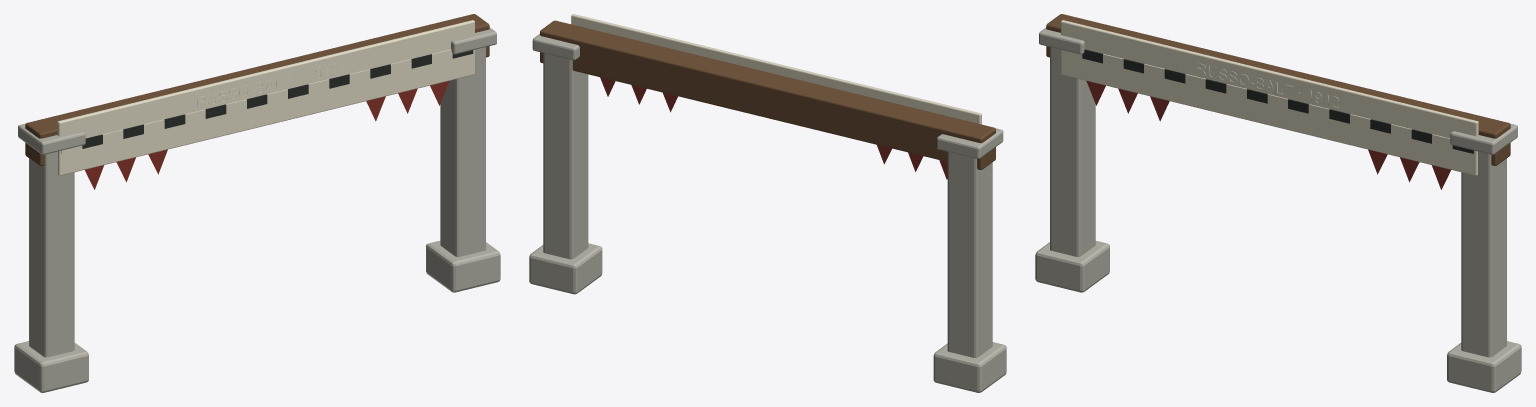
The model's file is Prop_Start_Arch_1912.fbx.
3 renders of one model, left to right at view 1: azimuth 30°, elevation 25°; view 2: azimuth 150°, elevation 25°; view 3: azimuth 330°, elevation 25°, orthographic.
Parts seen in each view (by area): view 1: Prop_Start_Arch_1912_OPT_Merged_ENV_Start_Arch_Stone_OPT_DAT, Prop_Start_Arch_1912_OPT_Merged_ENV_Start_Arch_Cloth_OPT_DAT, Prop_Start_Arch_1912_Crossbeam_OPT, Prop_Start_Arch_1912_OPT_Merged_ENV_Start_Arch_Black_OPT_DAT, Prop_Start_Arch_1912_OPT_Merged_RB_Mudguard_Red_OPT_DATA; view 2: Prop_Start_Arch_1912_OPT_Merged_ENV_Start_Arch_Stone_OPT_DAT, Prop_Start_Arch_1912_Crossbeam_OPT, Prop_Start_Arch_1912_OPT_Merged_ENV_Start_Arch_Cloth_OPT_DAT, Prop_Start_Arch_1912_OPT_Merged_RB_Mudguard_Red_OPT_DATA; view 3: Prop_Start_Arch_1912_OPT_Merged_ENV_Start_Arch_Stone_OPT_DAT, Prop_Start_Arch_1912_OPT_Merged_ENV_Start_Arch_Cloth_OPT_DAT, Prop_Start_Arch_1912_Crossbeam_OPT, Prop_Start_Arch_1912_OPT_Merged_ENV_Start_Arch_Black_OPT_DAT, Prop_Start_Arch_1912_OPT_Merged_RB_Mudguard_Red_OPT_DATA.
Part boxes in pixels (bbox=[...]): Prop_Start_Arch_1912_OPT_Merged_ENV_Start_Arch_Stone_OPT_DAT: bbox=[14, 27, 500, 392]; Prop_Start_Arch_1912_OPT_Merged_ENV_Start_Arch_Cloth_OPT_DAT: bbox=[57, 20, 474, 175]; Prop_Start_Arch_1912_Crossbeam_OPT: bbox=[25, 14, 489, 165]; Prop_Start_Arch_1912_OPT_Merged_ENV_Start_Arch_Black_OPT_DAT: bbox=[82, 50, 473, 148]; Prop_Start_Arch_1912_OPT_Merged_RB_Mudguard_Red_OPT_DATA: bbox=[85, 81, 449, 189]; Prop_Start_Arch_1912_OPT_Merged_ENV_Start_Arch_Stone_OPT_DAT: bbox=[529, 34, 1006, 392]; Prop_Start_Arch_1912_Crossbeam_OPT: bbox=[540, 20, 995, 169]; Prop_Start_Arch_1912_OPT_Merged_ENV_Start_Arch_Cloth_OPT_DAT: bbox=[571, 14, 981, 124]; Prop_Start_Arch_1912_OPT_Merged_RB_Mudguard_Red_OPT_DATA: bbox=[600, 77, 947, 179]; Prop_Start_Arch_1912_OPT_Merged_ENV_Start_Arch_Stone_OPT_DAT: bbox=[1035, 27, 1521, 392]; Prop_Start_Arch_1912_OPT_Merged_ENV_Start_Arch_Cloth_OPT_DAT: bbox=[1061, 20, 1478, 175]; Prop_Start_Arch_1912_Crossbeam_OPT: bbox=[1046, 14, 1510, 165]; Prop_Start_Arch_1912_OPT_Merged_ENV_Start_Arch_Black_OPT_DAT: bbox=[1082, 49, 1473, 153]; Prop_Start_Arch_1912_OPT_Merged_RB_Mudguard_Red_OPT_DATA: bbox=[1086, 81, 1450, 189].
Bounding box in the file's own units: 940 × 515 × 100.
